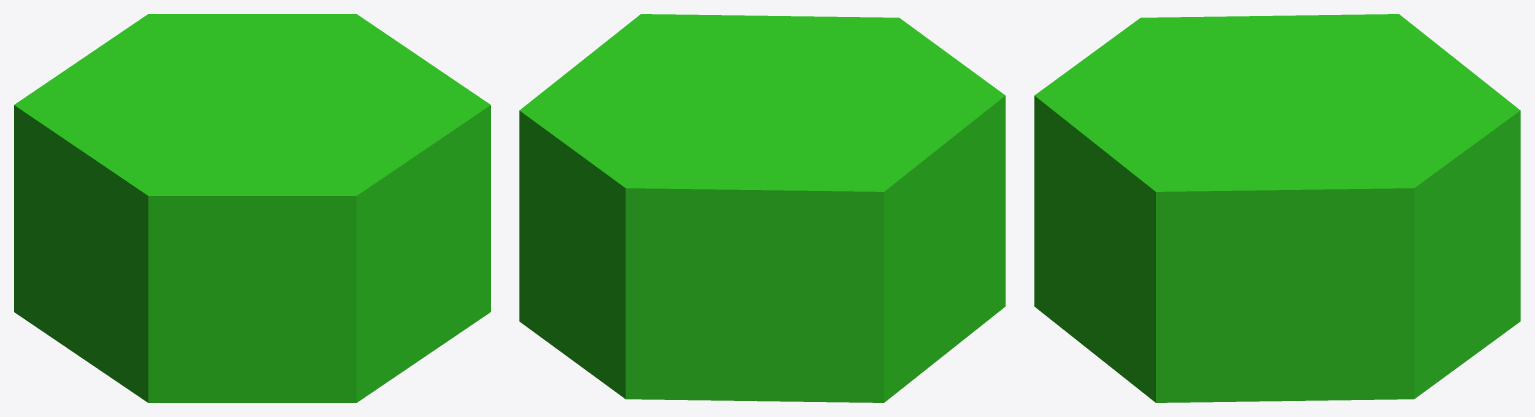
File: NormalContent.fbx
3 renders of one model, left to right at view 1: azimuth 30°, elevation 25°; view 2: azimuth 150°, elevation 25°; view 3: azimuth 270°, elevation 25°, orthographic.
Visible parts, largest first — view 1: Model; view 2: Model; view 3: Model.
Part boxes in pixels (<box>): Model: <box>14,14,490,402</box>; Model: <box>519,14,1005,402</box>; Model: <box>1034,14,1520,402</box>.
Size of what is drawn, in the model's own units: 0.5569 by 0.308 by 0.643.
